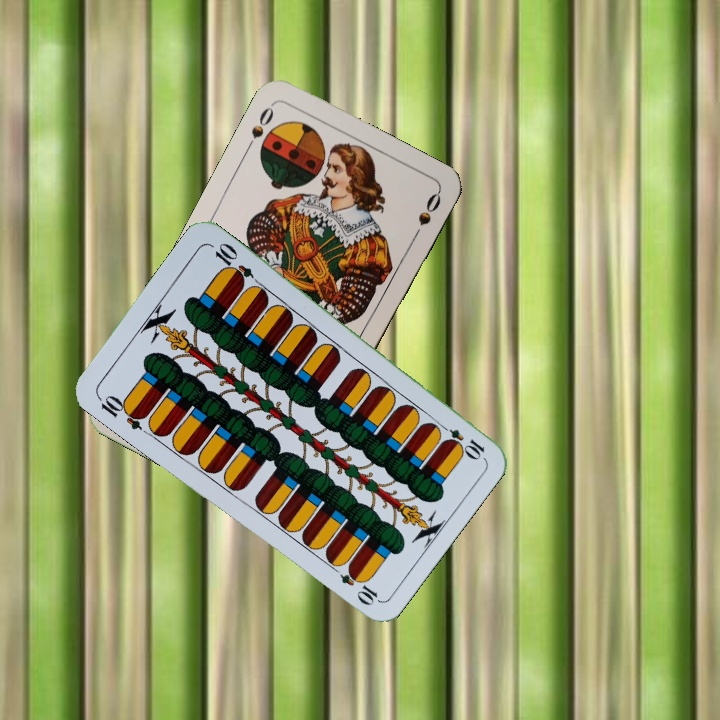E10: (93, 390, 149, 432), (433, 419, 488, 461)
SO: (241, 100, 277, 154)
